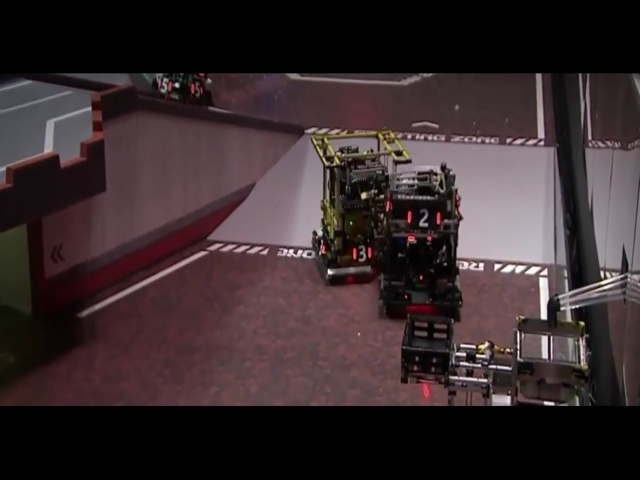bluePlate: (247, 155, 280, 185), (366, 314, 394, 349), (148, 194, 172, 217), (218, 157, 235, 185), (429, 302, 444, 329), (325, 134, 342, 157)
redPlate: (24, 329, 71, 365), (299, 169, 321, 192), (97, 322, 114, 351)
